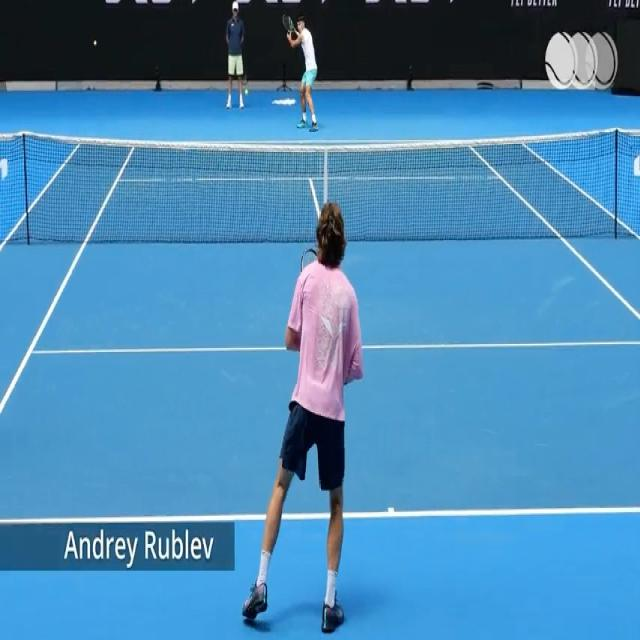ready-position: (245, 194, 362, 625)
